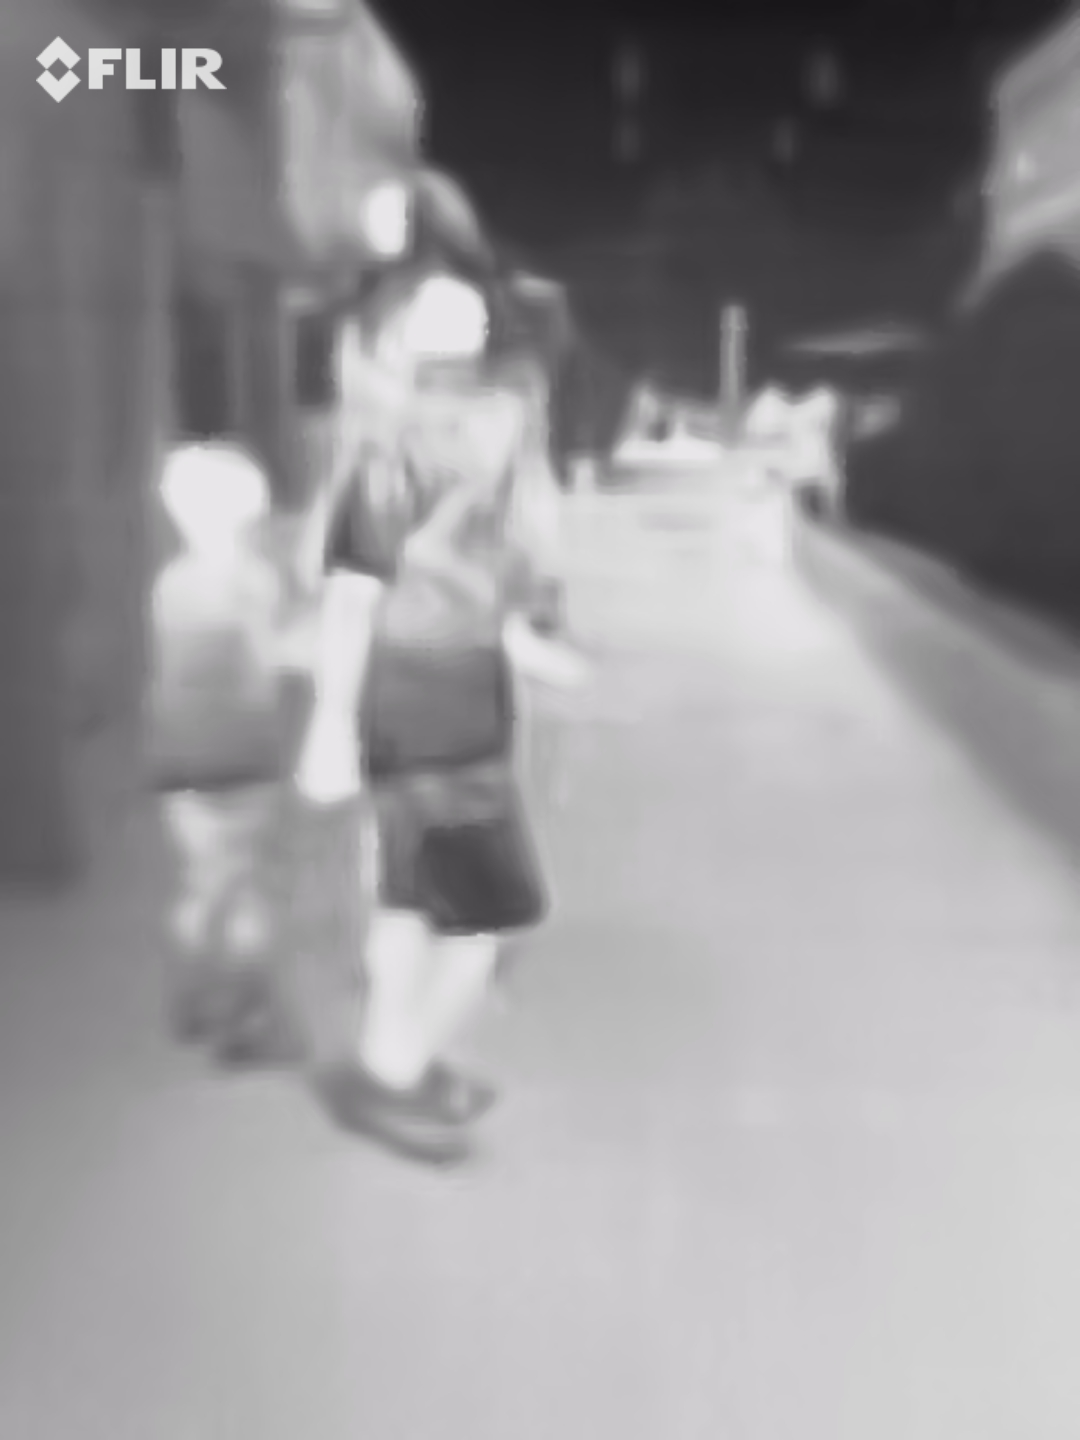head: (366, 265, 497, 418)
